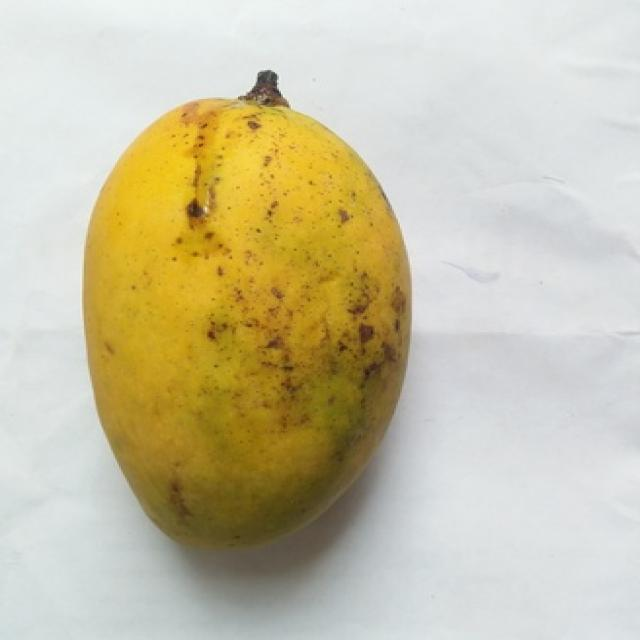Mango: (84, 93, 410, 546)
